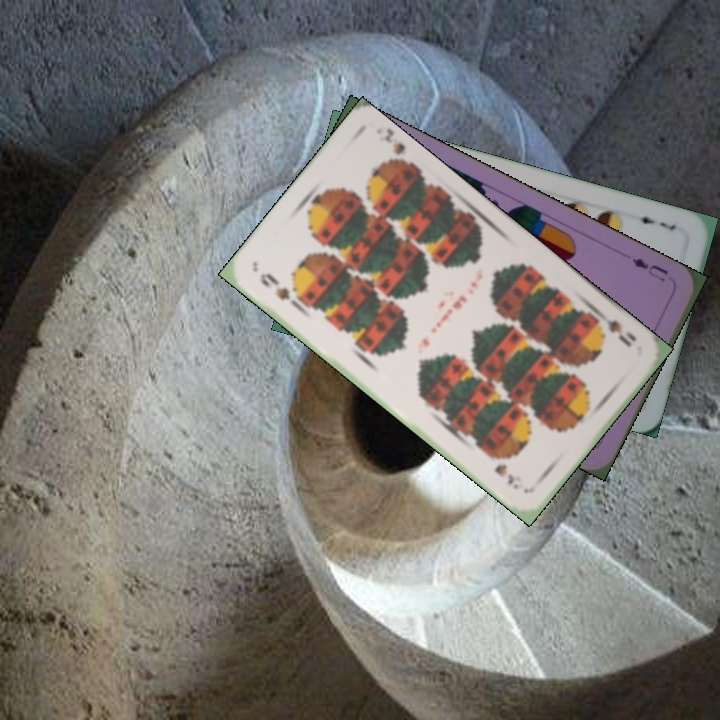E7: (630, 210, 679, 233)
EU: (628, 254, 671, 284)
S9: (590, 306, 639, 350), (256, 268, 304, 310)
